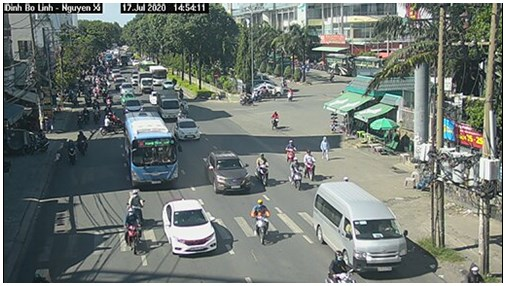di_bo: (321, 131, 334, 163)
xe_ban_tai: (203, 149, 247, 196)
xe_buyt: (124, 111, 178, 188)
xe_hoi: (161, 195, 222, 263), (175, 116, 203, 143), (123, 99, 143, 113)
xe_khach: (310, 182, 409, 275)
xe_may: (320, 251, 356, 286), (248, 199, 272, 246), (121, 208, 144, 255), (126, 190, 147, 228), (254, 152, 274, 187), (303, 147, 317, 186), (289, 157, 305, 191), (96, 114, 118, 136), (74, 128, 89, 158), (264, 109, 283, 131), (283, 138, 295, 164), (65, 138, 76, 164), (80, 104, 90, 127), (75, 108, 82, 128)
